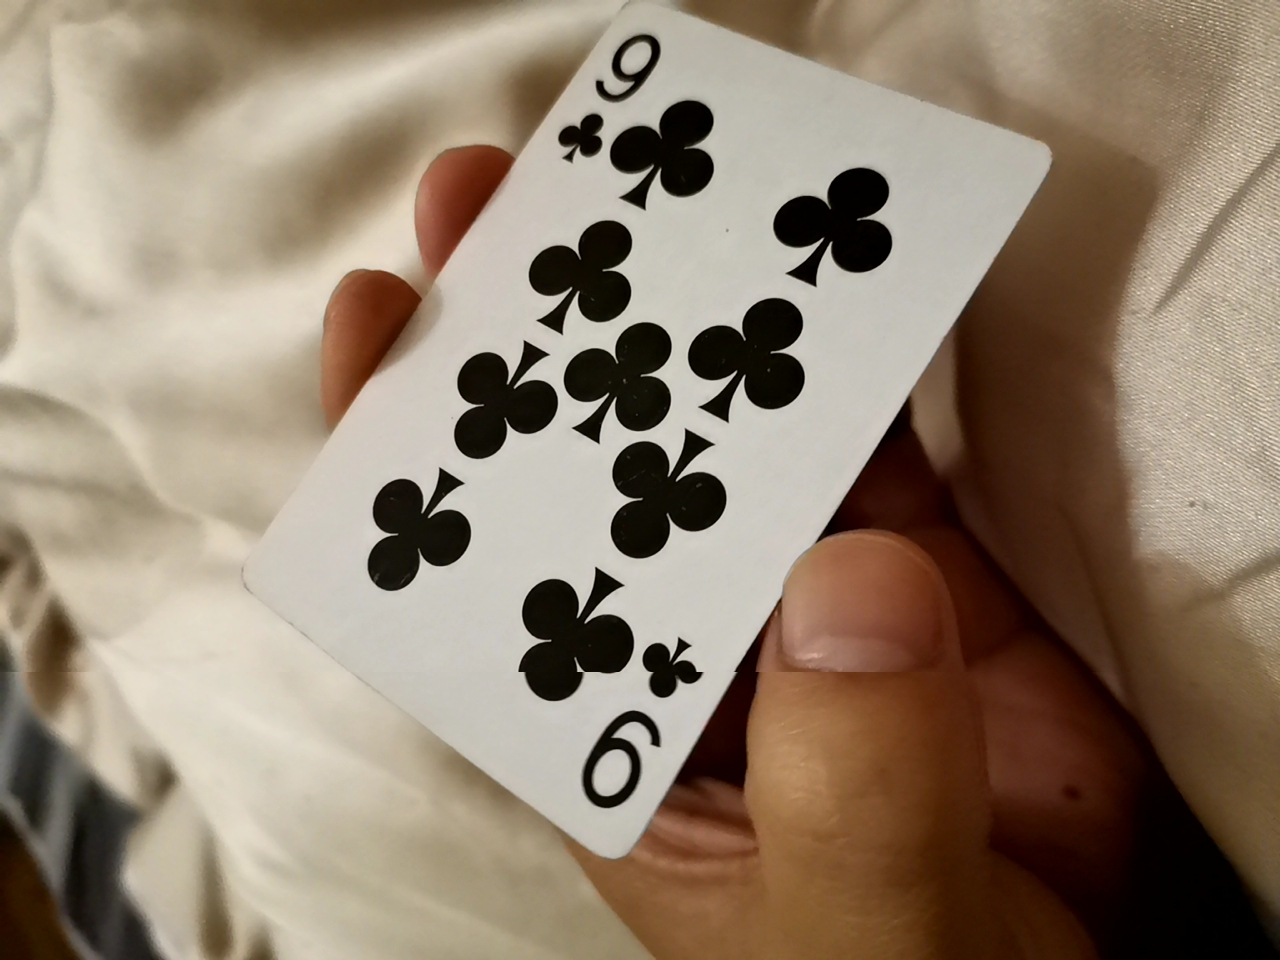mh 9: (238, 14, 1033, 878)
